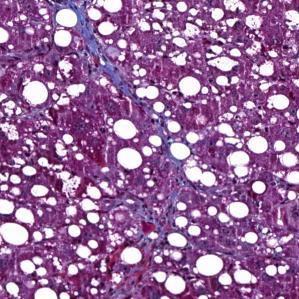fibrosis: (81, 27, 148, 117)
